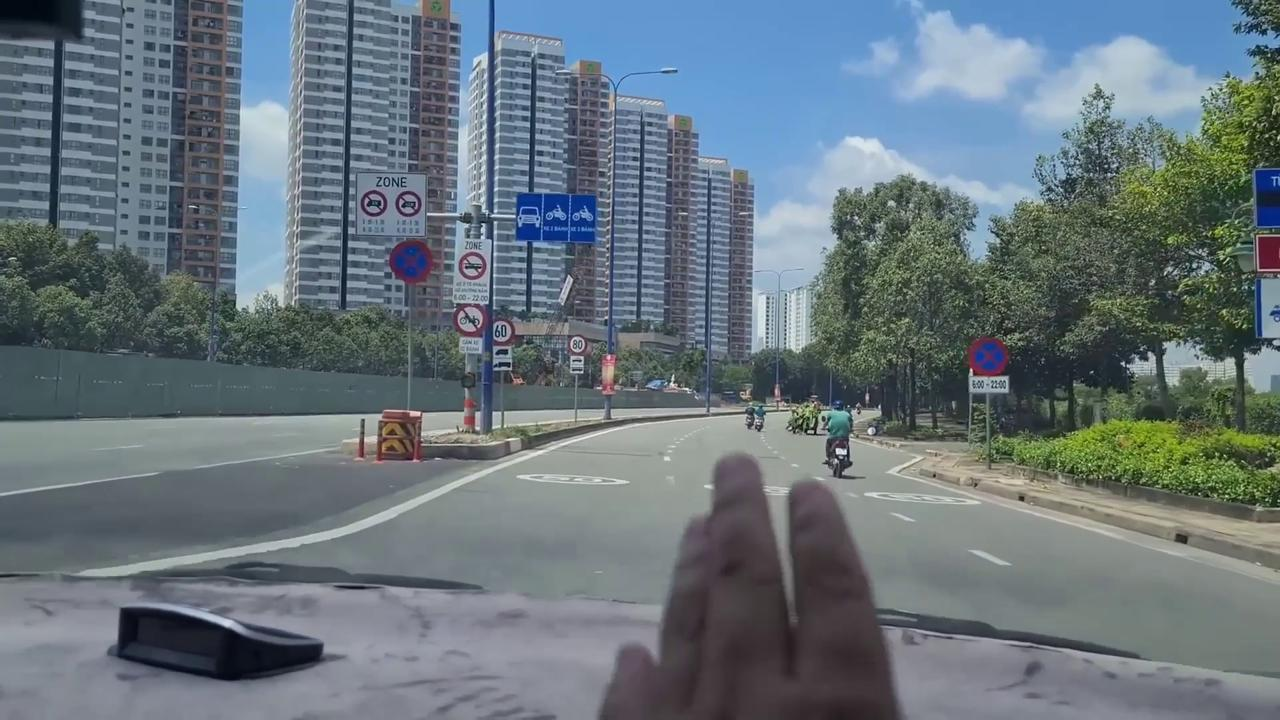Biển phụ: (967, 375, 1011, 395), (490, 345, 513, 372), (458, 336, 484, 354), (570, 355, 584, 375)
Cấm cac phương tiện hoạt động trong khung giờ cố định: (354, 172, 428, 238), (453, 238, 490, 305)
Cấm dừng - Cấm đỗ: (388, 240, 434, 285), (967, 336, 1010, 375)
Cấm xe máy: (453, 303, 488, 337)
GIơi hạn tốc độ 60Km/h: (489, 318, 516, 345)
Giới hạn tốc độ 80Km/h: (568, 333, 588, 355)
Làn đường cho từng xe: (514, 191, 598, 244)
